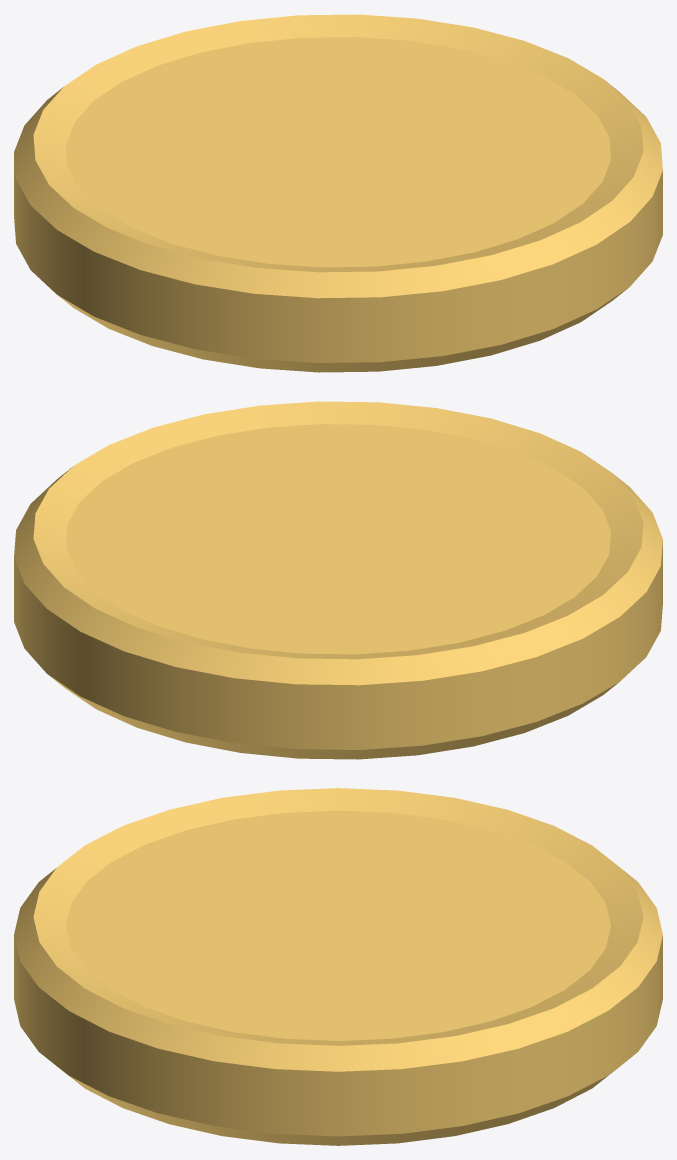
Rendered from gold-coin.glb.
The picture shows the model from 3 angles, top to bottom: view 1: azimuth 30°, elevation 25°; view 2: azimuth 150°, elevation 25°; view 3: azimuth 270°, elevation 25°; orthographic projection.
Visible parts, largest first — view 1: gold-coin; view 2: gold-coin; view 3: gold-coin.
Boxes of the visible parts, left/top/right/bottom form: gold-coin: left=14, top=14, right=662, bottom=372; gold-coin: left=14, top=401, right=662, bottom=759; gold-coin: left=14, top=788, right=662, bottom=1145.
Size of the model in its own units: 2 by 0.34 by 2.
